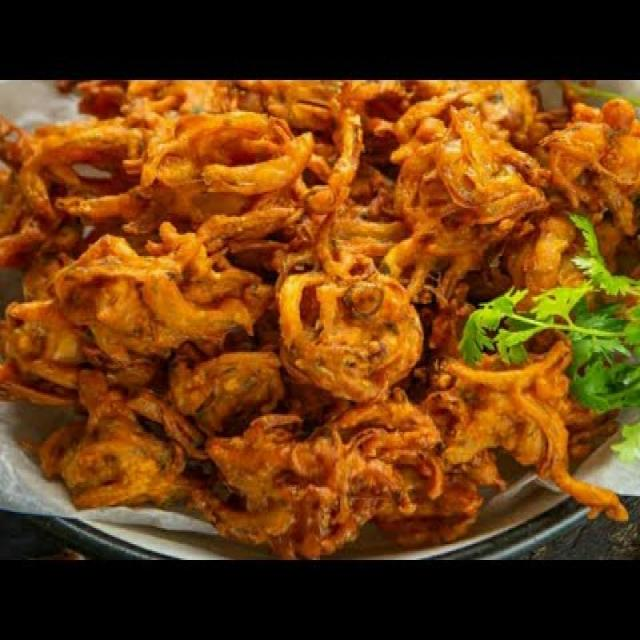Onion Pakora: (3, 56, 640, 542)
